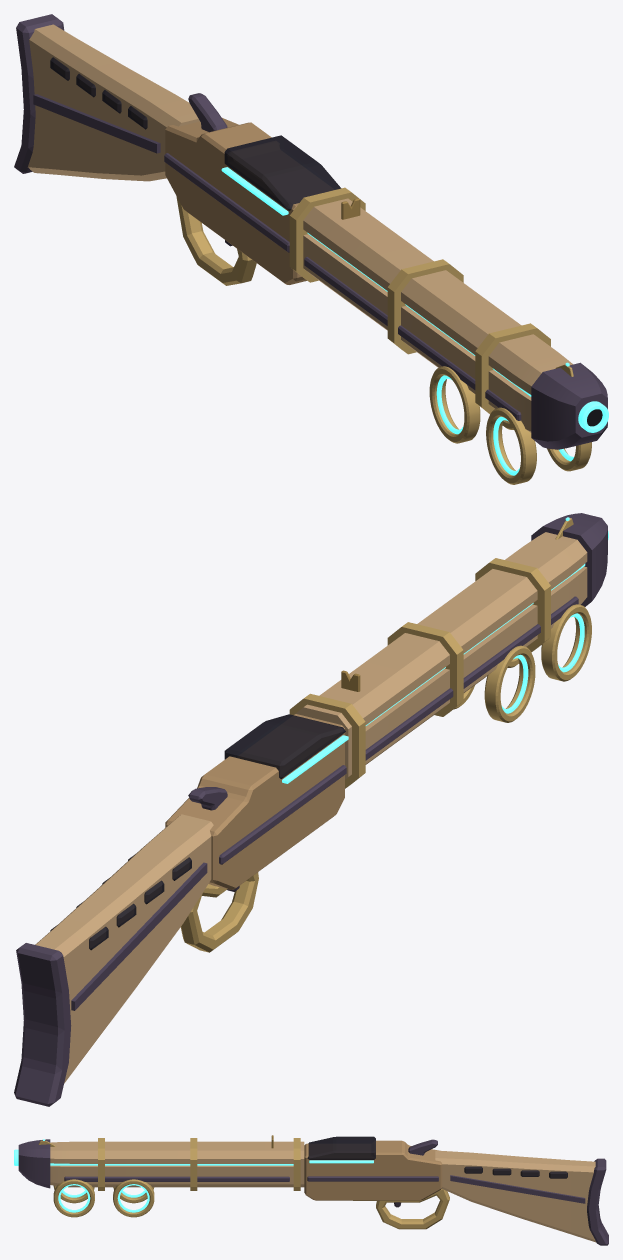
Rendered from w_lever@lever_star.glb.
3 renders of one model, top to bottom at view 1: azimuth 30°, elevation 25°; view 2: azimuth 150°, elevation 25°; view 3: azimuth 270°, elevation 25°, orthographic. The views are drawn at different scales.
Parts seen in each view (by area): view 1: barrel_wzA__wood__pc8a67c, stock_wzA__wood__pc8a67c, body_wzA__wood2__pb39066, barrel_wzN__brass2__pc4a463, hover_wzN__brass2__pc4a463, barrel_wzB__metal2__p51465c, body_wzN__canopy__g22202be6, stock_wzB__metal2__p51465c, lever_wzN__brass2__pc4a463, barrel_wzN__stripe__p51465c, stock_wzN__stripe__p51465c, body_wzN__stripe__p51465c (+4 smaller); view 2: barrel_wzA__wood__pc8a67c, stock_wzA__wood__pc8a67c, body_wzA__wood2__pb39066, stock_wzB__metal2__p51465c, barrel_wzN__brass2__pc4a463, hover_wzN__brass2__pc4a463, body_wzN__canopy__g22202be6, lever_wzN__brass2__pc4a463, barrel_wzB__metal2__p51465c, barrel_wzN__stripe__p51465c, stock_wzN__stripe__p51465c, body_wzN__stripe__p51465c (+2 smaller); view 3: barrel_wzA__wood__pc8a67c, stock_wzA__wood__pc8a67c, body_wzA__wood2__pb39066, hover_wzN__brass2__pc4a463, body_wzN__canopy__g22202be6, barrel_wzB__metal2__p51465c, lever_wzN__brass2__pc4a463, barrel_wzN__brass2__pc4a463, barrel_wzN__stripe__p51465c, stock_wzB__metal2__p51465c, stock_wzN__stripe__p51465c, body_wzN__stripe__p51465c (+5 smaller).
Part boxes in pixels (x1=…): barrel_wzA__wood__pc8a67c: x1=303, y1=198, x2=572, y2=432; stock_wzA__wood__pc8a67c: x1=28, y1=24, x2=199, y2=181; body_wzA__wood2__pb39066: x1=165, y1=118, x2=306, y2=284; barrel_wzN__brass2__pc4a463: x1=289, y1=187, x2=550, y2=414; hover_wzN__brass2__pc4a463: x1=429, y1=366, x2=591, y2=484; barrel_wzB__metal2__p51465c: x1=531, y1=362, x2=607, y2=449; body_wzN__canopy__g22202be6: x1=224, y1=135, x2=341, y2=210; stock_wzB__metal2__p51465c: x1=14, y1=14, x2=64, y2=173; lever_wzN__brass2__pc4a463: x1=176, y1=196, x2=256, y2=285; barrel_wzN__stripe__p51465c: x1=304, y1=257, x2=521, y2=420; stock_wzN__stripe__p51465c: x1=33, y1=94, x2=160, y2=153; body_wzN__stripe__p51465c: x1=164, y1=153, x2=289, y2=252; barrel_wzA__wood__pc8a67c: x1=294, y1=532, x2=587, y2=779; stock_wzA__wood__pc8a67c: x1=35, y1=814, x2=213, y2=1083; body_wzA__wood2__pb39066: x1=165, y1=714, x2=344, y2=889; stock_wzB__metal2__p51465c: x1=14, y1=943, x2=71, y2=1106; barrel_wzN__brass2__pc4a463: x1=289, y1=558, x2=550, y2=788; hover_wzN__brass2__pc4a463: x1=453, y1=604, x2=591, y2=722; body_wzN__canopy__g22202be6: x1=224, y1=714, x2=345, y2=778; lever_wzN__brass2__pc4a463: x1=180, y1=872, x2=258, y2=952; barrel_wzB__metal2__p51465c: x1=531, y1=513, x2=607, y2=606; barrel_wzN__stripe__p51465c: x1=365, y1=596, x2=578, y2=760; stock_wzN__stripe__p51465c: x1=71, y1=862, x2=207, y2=1010; body_wzN__stripe__p51465c: x1=219, y1=765, x2=346, y2=864; barrel_wzA__wood__pc8a67c: x1=50, y1=1141, x2=304, y2=1187; stock_wzA__wood__pc8a67c: x1=435, y1=1150, x2=596, y2=1242; body_wzA__wood2__pb39066: x1=304, y1=1140, x2=442, y2=1200; hover_wzN__brass2__pc4a463: x1=53, y1=1179, x2=154, y2=1217; body_wzN__canopy__g22202be6: x1=307, y1=1136, x2=375, y2=1159; barrel_wzB__metal2__p51465c: x1=18, y1=1139, x2=50, y2=1188; lever_wzN__brass2__pc4a463: x1=353, y1=1189, x2=449, y2=1229; barrel_wzN__brass2__pc4a463: x1=98, y1=1138, x2=300, y2=1190; barrel_wzN__stripe__p51465c: x1=64, y1=1176, x2=289, y2=1181; stock_wzB__metal2__p51465c: x1=587, y1=1158, x2=608, y2=1245; stock_wzN__stripe__p51465c: x1=450, y1=1175, x2=585, y2=1203; body_wzN__stripe__p51465c: x1=307, y1=1176, x2=438, y2=1181.
Bounding box in the file's own units: 0.085 × 0.2315 × 1.2.
